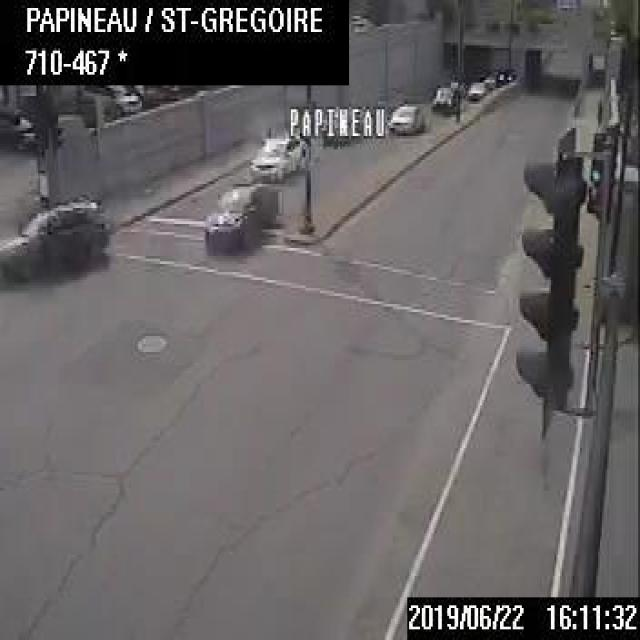vehicle: (0, 197, 105, 279), (202, 178, 281, 251), (246, 130, 310, 177), (99, 80, 143, 118), (387, 101, 422, 128), (431, 80, 458, 109), (465, 76, 491, 98)
